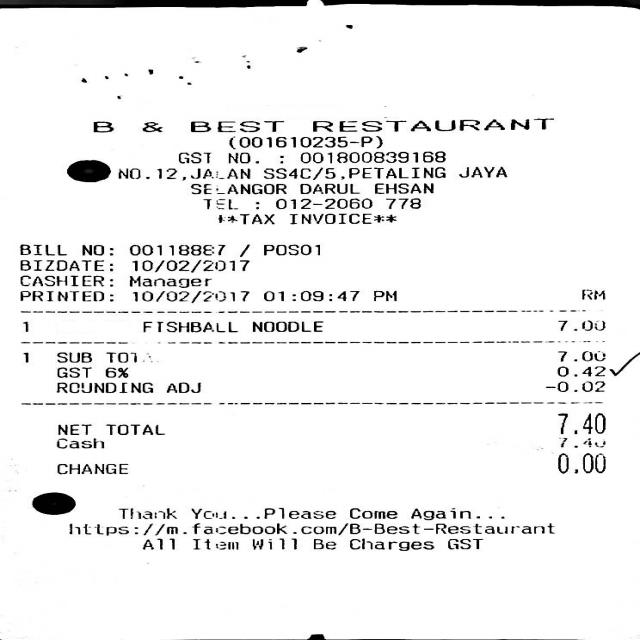text: (290, 522, 552, 535), (310, 117, 551, 131), (228, 134, 381, 148), (297, 150, 444, 163), (130, 259, 248, 272), (130, 290, 248, 302), (410, 507, 504, 520), (189, 119, 282, 132), (19, 258, 112, 271), (287, 213, 394, 224), (342, 166, 448, 177), (19, 289, 112, 301), (348, 537, 432, 550), (194, 522, 283, 534), (273, 197, 370, 208), (128, 244, 224, 255), (556, 412, 604, 434), (556, 451, 604, 473), (19, 275, 112, 286), (143, 320, 235, 331), (129, 275, 209, 287), (54, 382, 150, 392), (263, 290, 357, 300), (263, 167, 335, 180), (192, 165, 250, 181), (262, 508, 335, 520), (67, 523, 136, 535), (54, 462, 126, 473), (251, 320, 322, 331), (118, 167, 178, 179), (372, 182, 431, 194), (298, 183, 358, 194), (227, 183, 285, 194), (117, 507, 175, 518), (216, 213, 272, 224), (262, 244, 318, 255), (544, 381, 604, 391), (105, 424, 163, 434), (457, 166, 505, 177), (17, 244, 65, 255), (556, 350, 604, 361), (347, 507, 395, 518), (250, 537, 294, 549), (141, 523, 184, 535), (555, 366, 604, 376), (105, 351, 149, 362), (188, 507, 232, 518), (556, 320, 604, 330), (54, 438, 102, 448), (189, 538, 236, 548), (176, 152, 209, 164), (54, 351, 90, 362), (54, 367, 90, 378), (163, 381, 199, 392), (141, 537, 173, 549), (384, 197, 418, 208), (55, 424, 90, 434), (445, 538, 480, 548), (81, 244, 112, 255), (226, 152, 256, 163), (203, 198, 236, 208), (574, 437, 604, 447), (104, 367, 127, 378), (579, 289, 603, 299), (188, 183, 209, 194), (371, 290, 394, 300), (311, 538, 334, 548), (91, 121, 111, 132), (140, 121, 160, 132), (237, 244, 247, 256), (21, 350, 29, 362), (21, 322, 29, 332), (558, 438, 564, 447), (279, 154, 281, 162)
